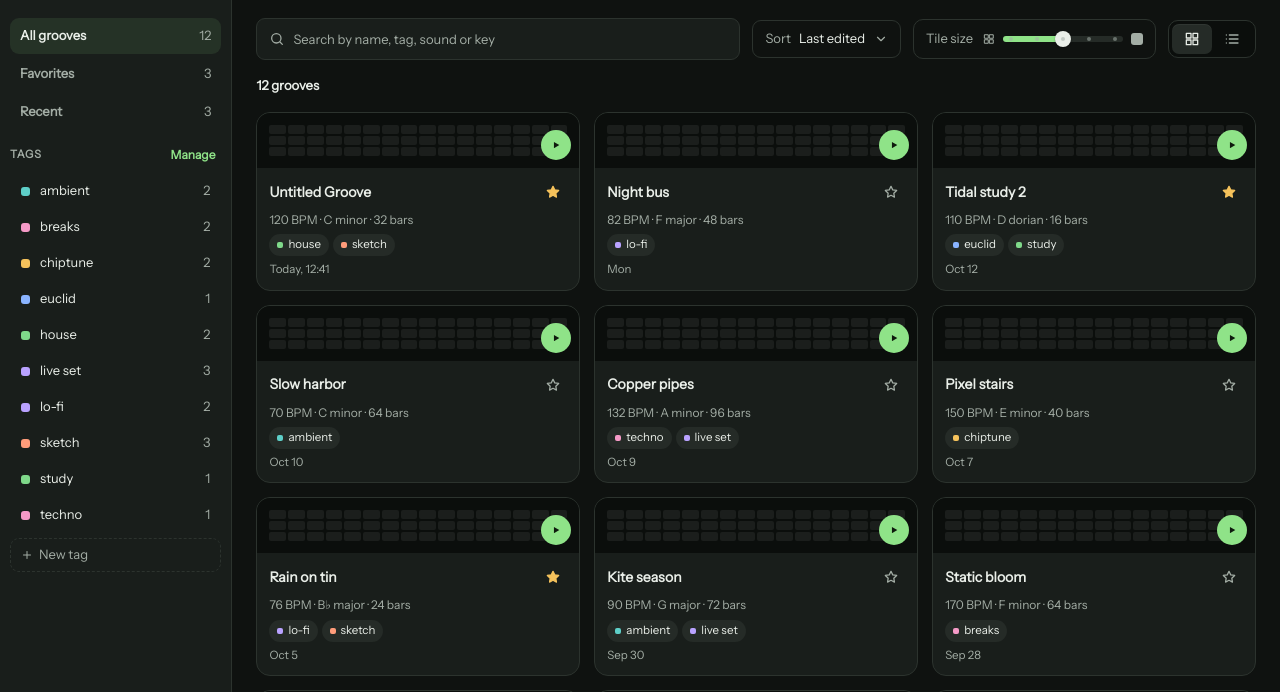
Scenario: GrooveBrowser › should say why a groove can't be played and leave the open project alone
Expected: the text "12 grooves" is shown, [256,77,319,95]
What coordinates should you click on to do the following:
click the button named "Play Night bus"
I would click on:
 (894, 145)
Its box is [879,130,909,160].
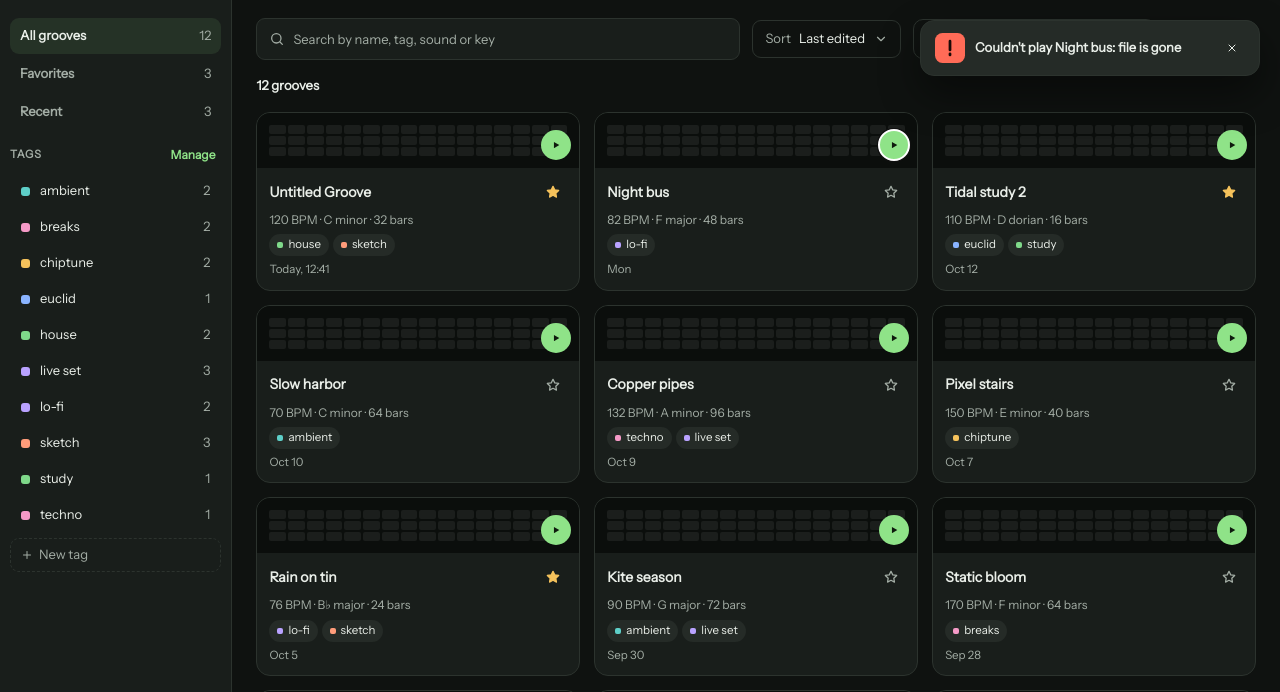
Result: the text "Couldn't play Night bus: file is gone" is shown at [975,39,1209,57]
